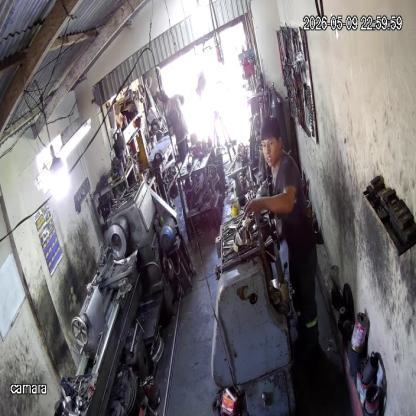sin_lentes: (261, 139, 275, 152)
